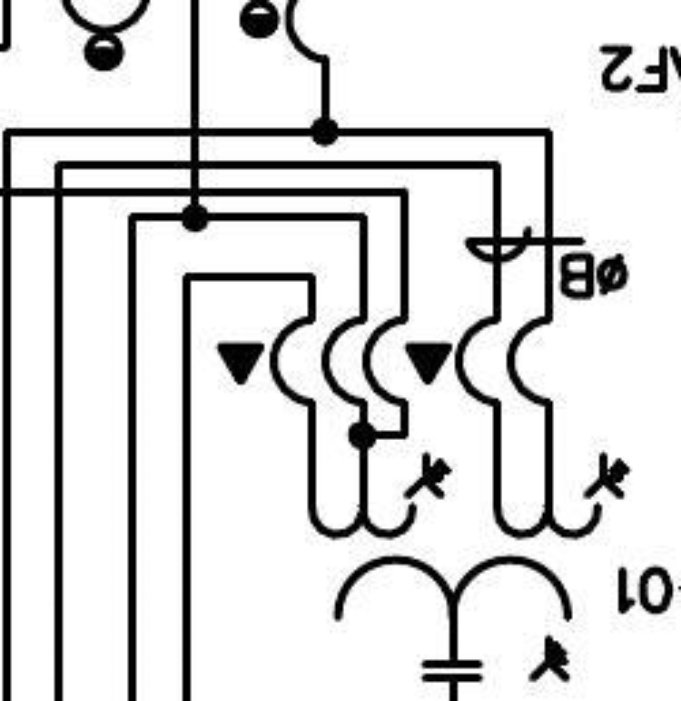115_cvt_3p: (306, 450, 633, 683)
